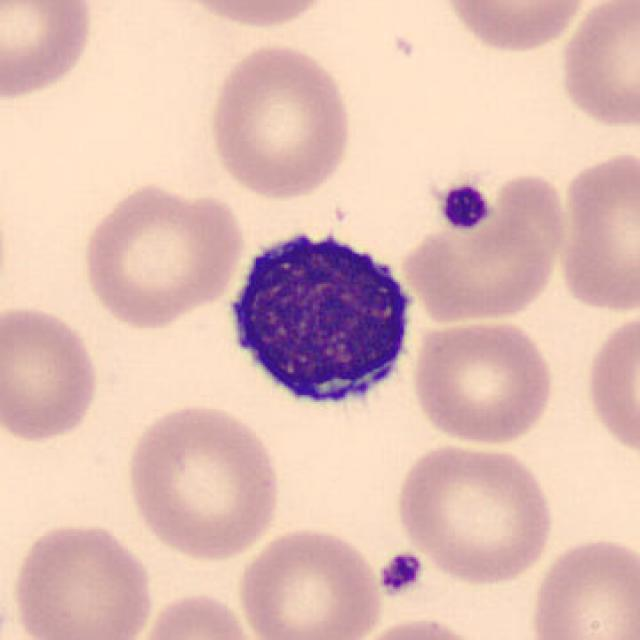Lymphocyte: (217, 216, 423, 420)
Platelets: (436, 180, 494, 233), (375, 548, 425, 598)
RBC: (119, 398, 286, 562), (397, 171, 570, 326), (77, 178, 247, 332), (204, 39, 356, 203), (391, 439, 558, 587), (409, 314, 558, 448), (7, 518, 158, 640), (234, 523, 384, 640), (551, 144, 638, 318), (0, 300, 103, 446), (524, 532, 640, 640), (555, 0, 638, 132), (0, 0, 100, 104), (582, 305, 638, 465), (437, 0, 592, 55), (128, 589, 260, 640), (165, 0, 338, 32), (348, 613, 490, 640)
